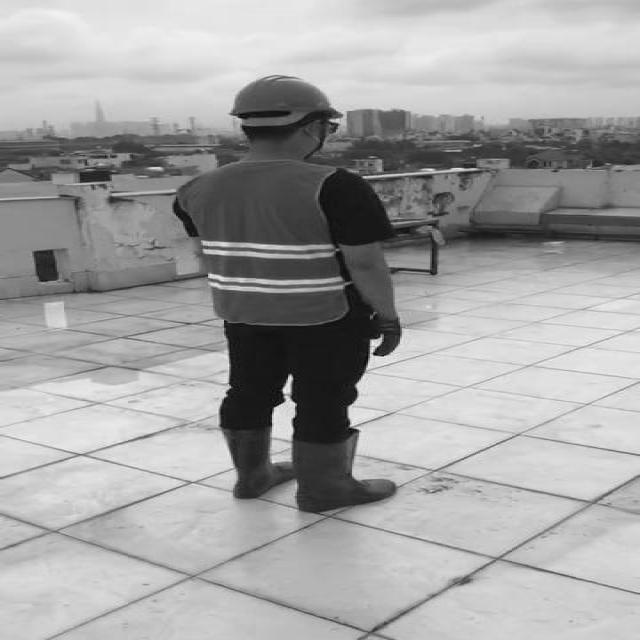boots: (291, 432, 393, 512), (220, 427, 292, 498)
hand_glove: (364, 315, 402, 356)
head_helmet: (228, 73, 343, 117)
person: (172, 70, 424, 514)
vest: (179, 160, 345, 323)
